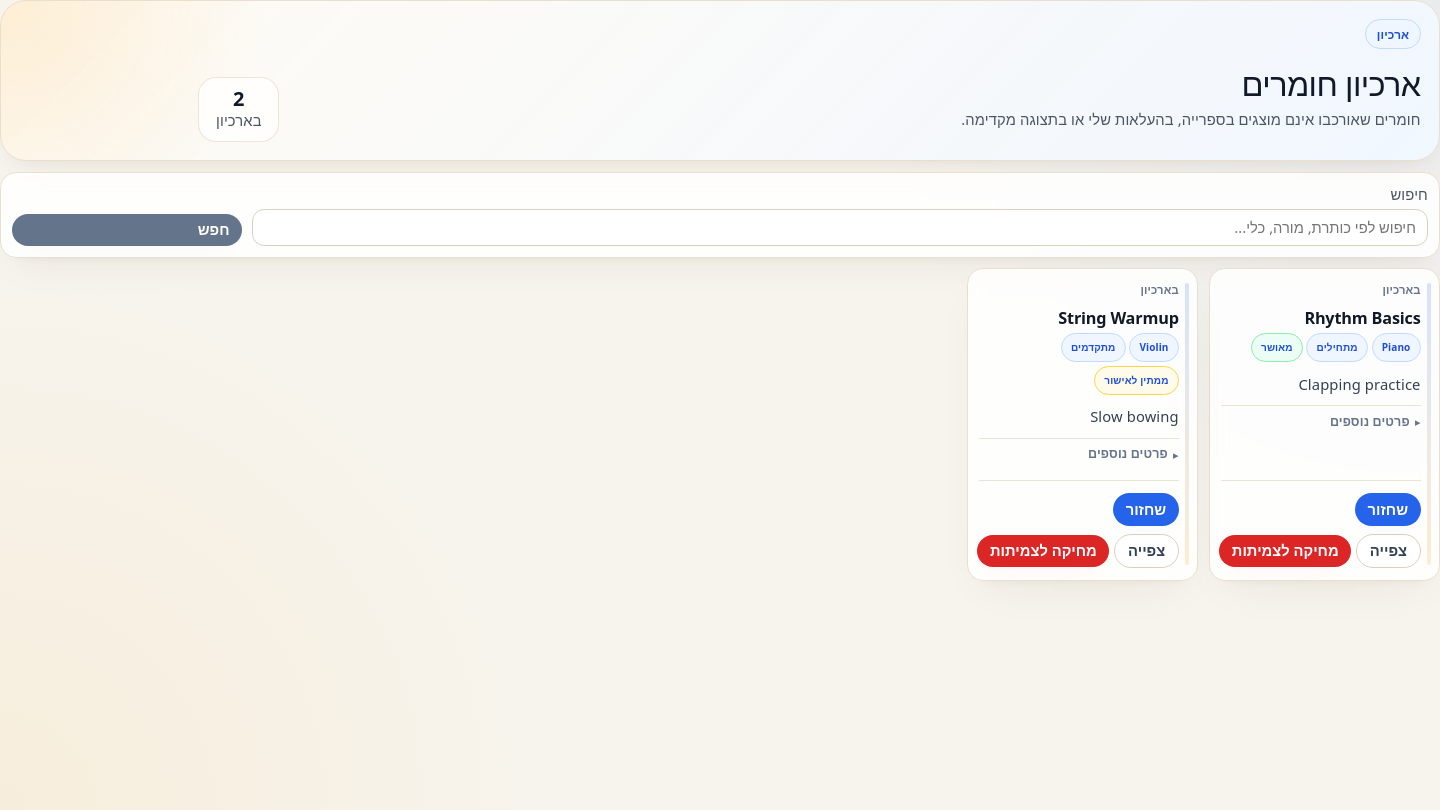
Test: AdminArchivedMaterialsPage › shows rejection reason in expanded card details
This screenshot has width=1440, height=810.
Check: the text "String Warmup" is shown, box left=1058, top=306, right=1179, bottom=328
Click the heading "פרטים נוספים" below "Slow bowing": (1128, 454) left=1088, top=446, right=1168, bottom=462
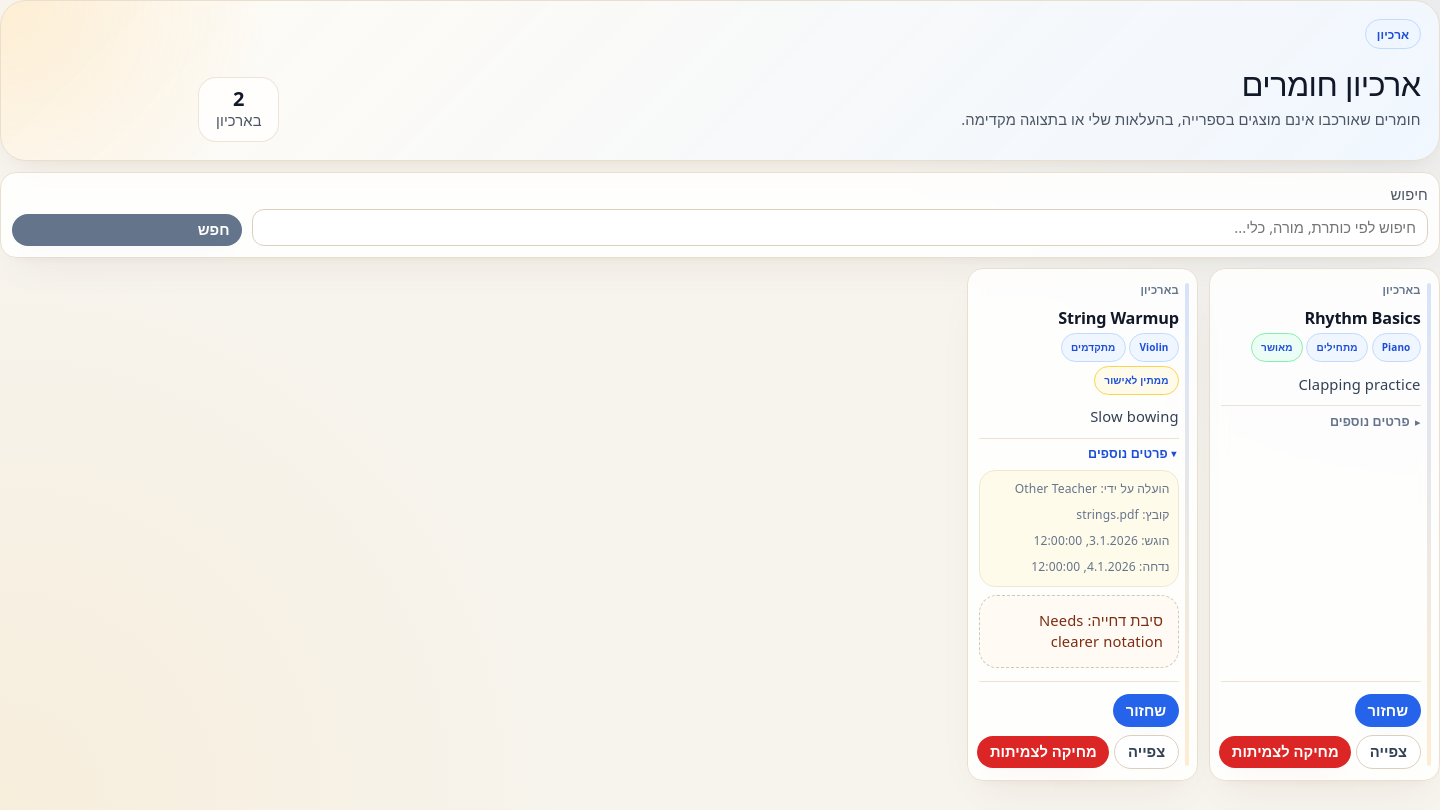
Check: the text "סיבת דחייה: Needs clearer notation" is shown, box left=979, top=595, right=1179, bottom=668
